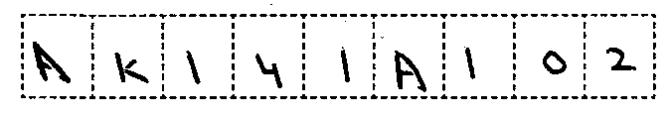0: (536, 46, 578, 81)
1: (176, 43, 208, 90), (455, 42, 486, 84), (328, 42, 358, 84)
2: (602, 42, 639, 77)
4: (247, 48, 293, 92)
A: (28, 36, 77, 90), (387, 44, 431, 94)
K: (108, 47, 153, 90)
